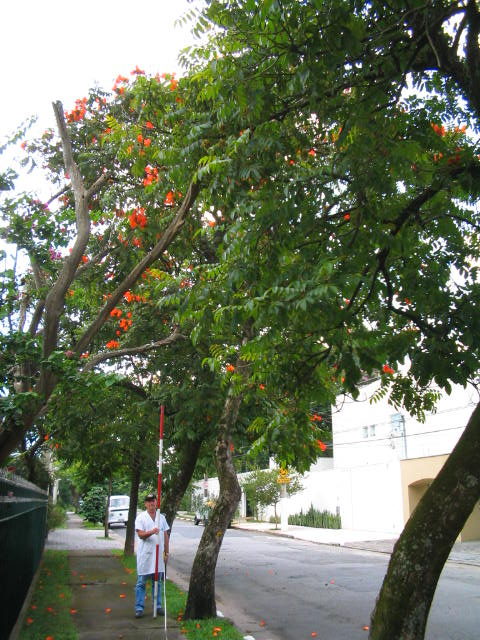stem: (354, 401, 480, 640), (178, 397, 254, 618)
stick: (152, 406, 169, 619)
